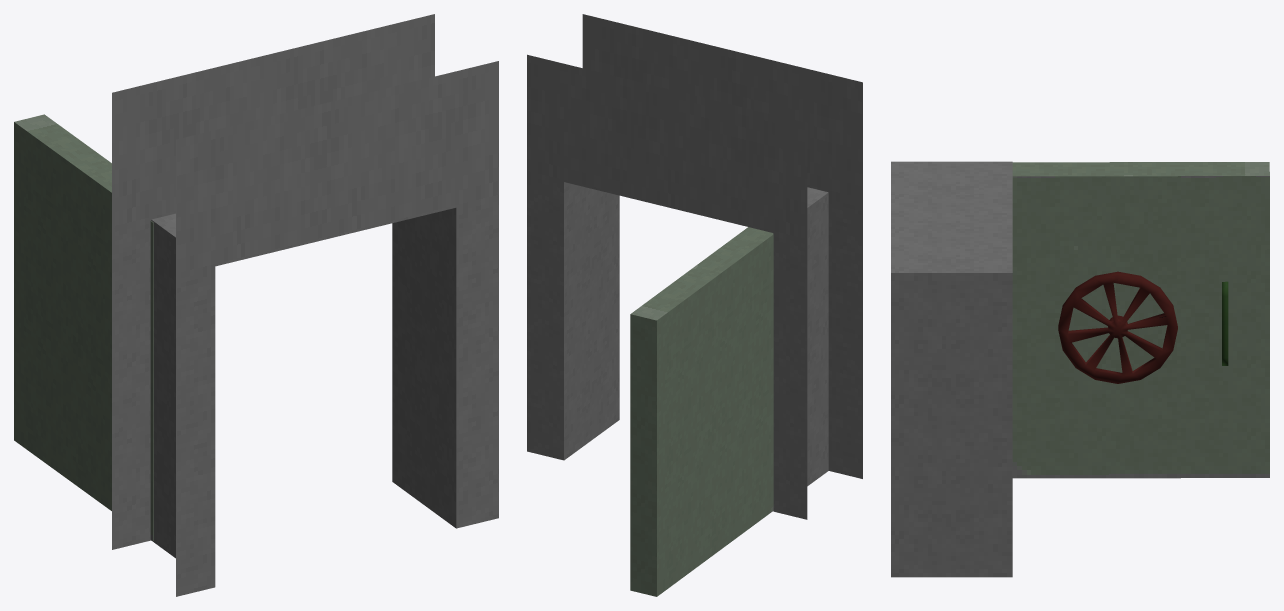
The model's file is stable-front-door.glb.
3 renders of one model, left to right at view 1: azimuth 30°, elevation 25°; view 2: azimuth 150°, elevation 25°; view 3: azimuth 270°, elevation 25°, orthographic. The views are drawn at different scales.
Parts seen in each view (by area): view 1: door.001; view 2: door.001; view 3: door.001.
Boxes of the visible parts, x1,y1,x2,y2 form: door.001: (14,14,498,596); door.001: (527,14,862,596); door.001: (891,161,1269,577).
Size of the model in its own units: 2.57 by 3.48 by 2.75.
Materials: 1 (1 with a texture image).
